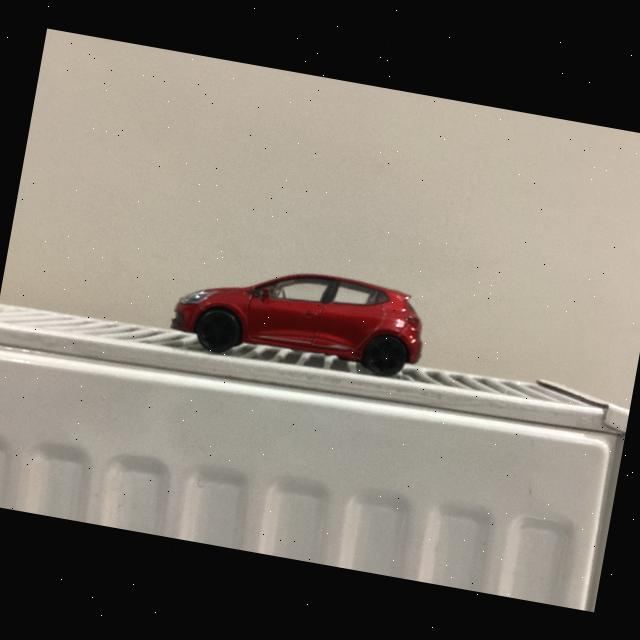Dogru_Jant: (200, 310, 238, 349), (369, 336, 405, 374)
